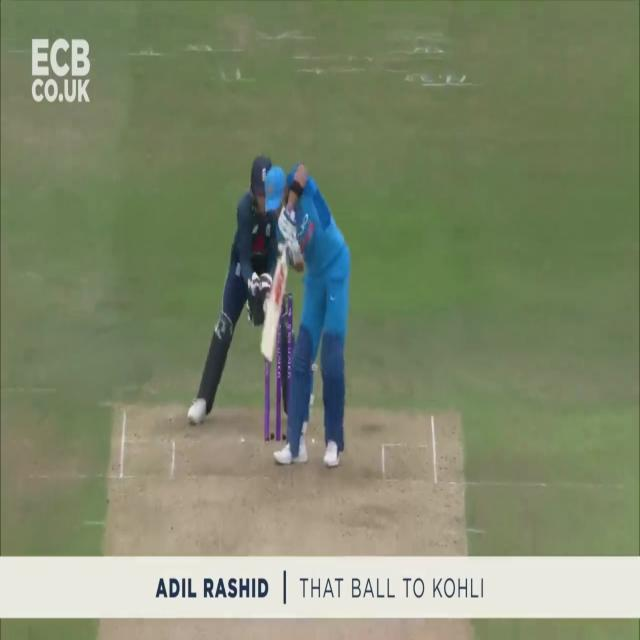cricketBall: (264, 300, 270, 315)
